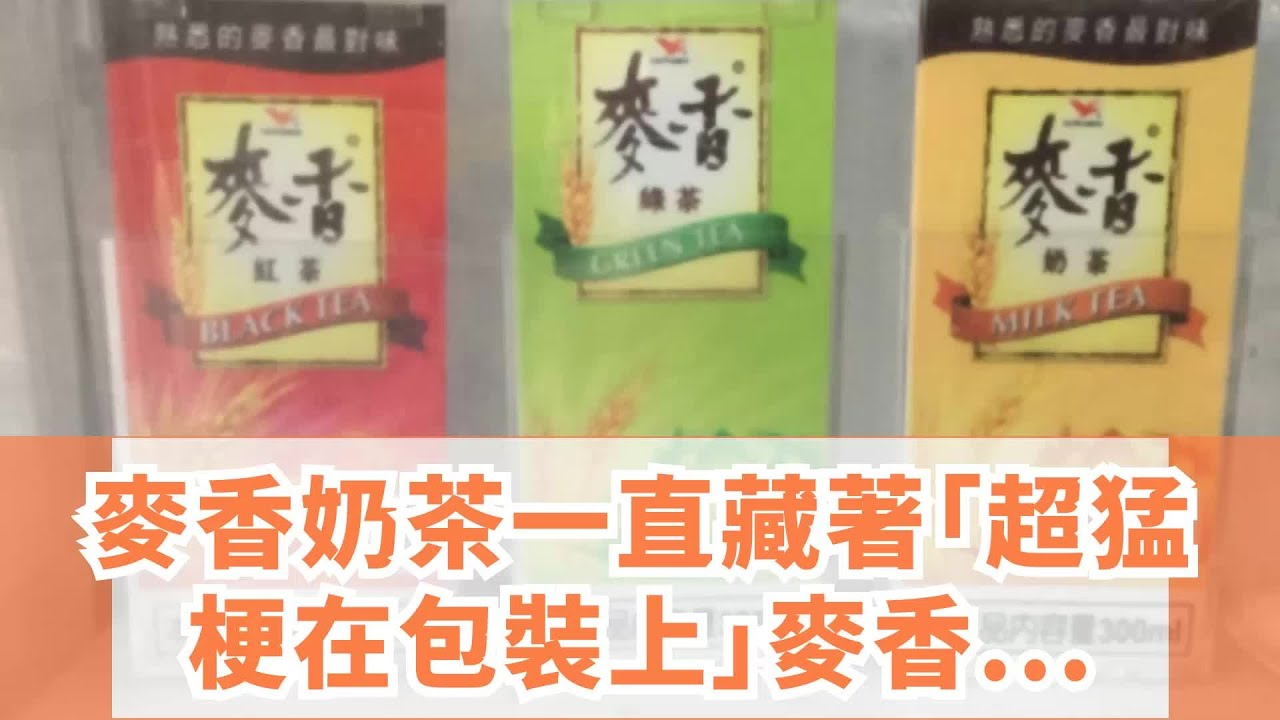milk tea: (909, 1, 1257, 430)
